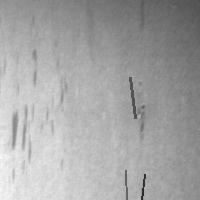inclusion: (6, 101, 37, 166), (133, 97, 152, 151), (27, 43, 44, 94), (134, 1, 149, 34), (128, 75, 137, 120), (139, 172, 146, 200), (123, 168, 128, 200)
